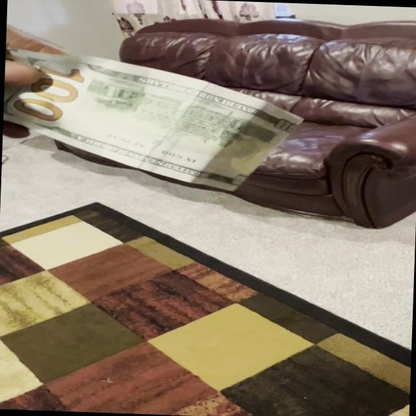one_hundred-back: (1, 48, 306, 196)
